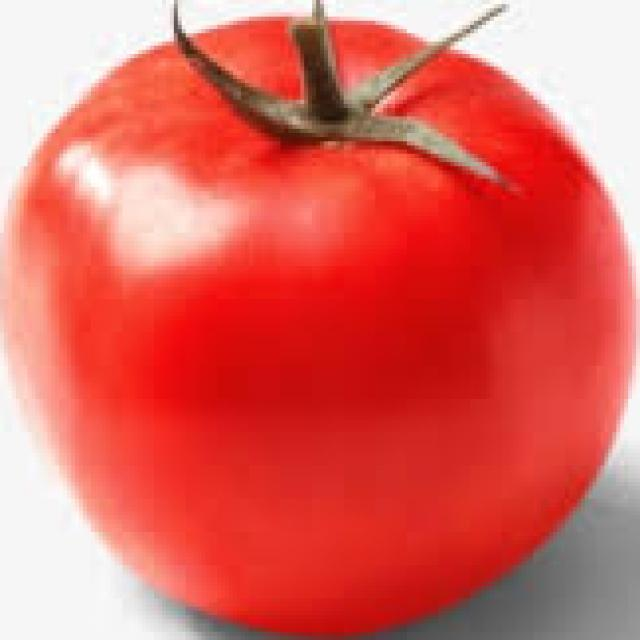Healthy: (29, 19, 640, 640)
